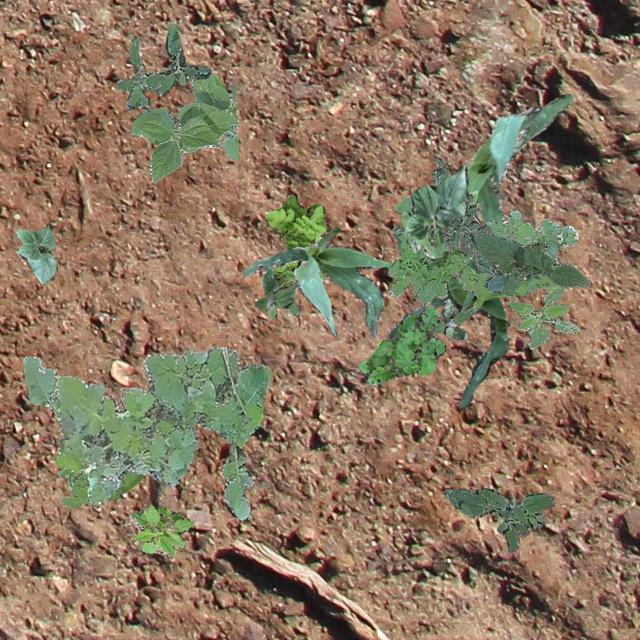crop: (242, 226, 392, 336), (388, 276, 508, 409), (466, 92, 572, 222), (130, 72, 238, 182), (468, 230, 590, 292), (398, 165, 468, 258), (16, 224, 56, 284)
weed: (22, 344, 270, 518), (386, 196, 576, 310), (116, 22, 210, 110), (442, 487, 554, 552), (358, 301, 444, 384), (432, 156, 492, 274), (264, 192, 326, 288), (507, 284, 578, 348), (56, 466, 142, 506), (130, 504, 192, 556), (253, 264, 300, 318), (432, 298, 476, 340)
